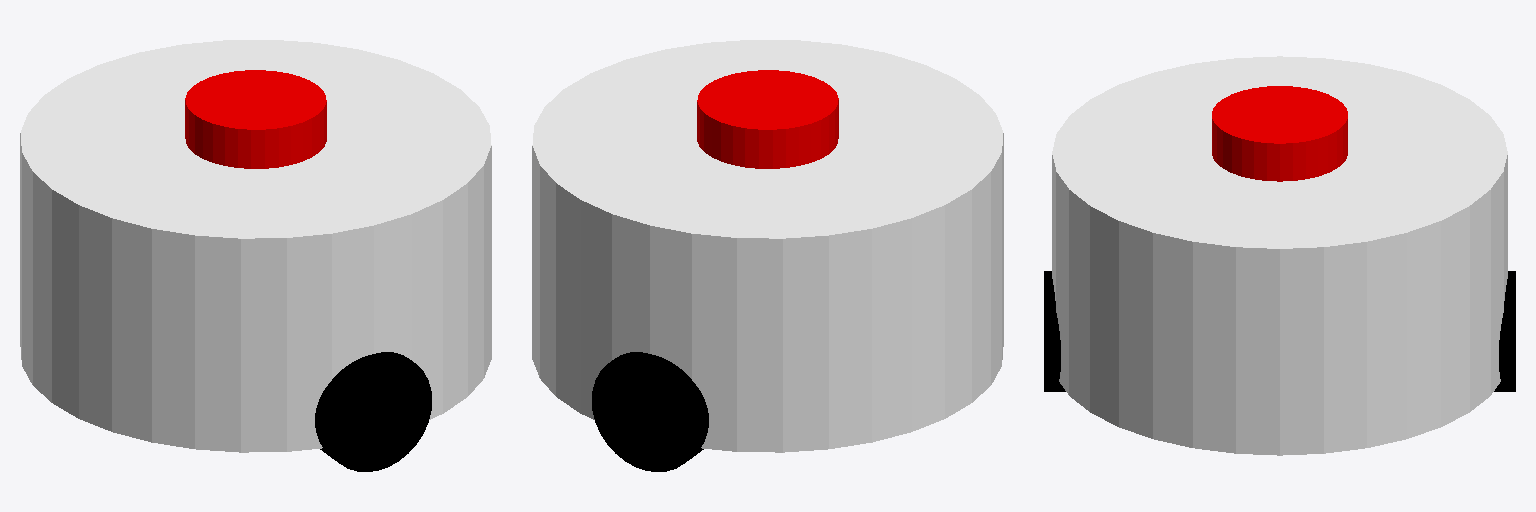
The robot description file, URDF, robot "swarm_bot":
<?xml version="1.0" ?>
<!-- =================================================================================== -->
<!-- |    This document was autogenerated by xacro from swarm_bot.xacro                | -->
<!-- |    EDITING THIS FILE BY HAND IS NOT RECOMMENDED                                 | -->
<!-- =================================================================================== -->
<robot name="swarm_bot">
  <material name="white">
    <color rgba="1 1 1 1"/>
  </material>
  <material name="black">
    <color rgba="0 0 0 1"/>
  </material>
  <material name="blue">
    <color rgba="0.2 0.2 1 1"/>
  </material>
  <material name="red">
    <color rgba="1 0 0 1"/>
  </material>
  <!-- BASE LINK -->
  <link name="base_link">

    </link>
  <joint name="chassis_joint" type="fixed">
    <parent link="base_link"/>
    <child link="chassis"/>
    <origin xyz="0 0 0"/>
  </joint>
  <link name="chassis">
    <visual>
      <geometry>
        <cylinder length="0.15" radius="0.15"/>
      </geometry>
      <material name="white"/>
    </visual>
    <collision>
      <geometry>
        <cylinder length="0.15" radius="0.15"/>
      </geometry>
    </collision>
    <inertial>
      <mass value="2.0"/>
      <inertia ixx="0.015" ixy="0.0" ixz="0.0" iyy="0.015" iyz="0.0" izz="0.0225"/>
    </inertial>
  </link>
  <link name="right_wheel">
    <visual>
      <geometry>
        <cylinder length="0.03" radius="0.04"/>
      </geometry>
      <material name="black"/>
    </visual>
    <collision>
      <geometry>
        <cylinder length="0.03" radius="0.04"/>
      </geometry>
    </collision>
    <inertial>
      <mass value="0.02"/>
      <inertia ixx="0.000032" ixy="0.0" ixz="0.0" iyy="0.000008" iyz="0.0" izz="0.000008"/>
    </inertial>
  </link>
  <gazebo reference="right_wheel">
    <material>Gazebo/Blue</material>
  </gazebo>
  <joint name="right_wheel_joint" type="continuous">
    <parent link="chassis"/>
    <child link="right_wheel"/>
    <origin xyz="0 -0.14 -0.055" rpy="1.57079632679 0 0"/>
    <axis xyz="0 0 -1"/>
  </joint>
  <link name="left_wheel">
    <visual>
      <geometry>
        <cylinder length="0.03" radius="0.04"/>
      </geometry>
      <material name="black"/>
    </visual>
    <collision>
      <geometry>
        <cylinder length="0.03" radius="0.04"/>
      </geometry>
    </collision>
    <inertial>
      <mass value="0.02"/>
      <inertia ixx="0.000032" ixy="0.0" ixz="0.0" iyy="0.000008" iyz="0.0" izz="0.000008"/>
    </inertial>
  </link>
  <gazebo reference="left_wheel">
    <material>Gazebo/Blue</material>
  </gazebo>
  <joint name="left_wheel_joint" type="continuous">
    <parent link="chassis"/>
    <child link="left_wheel"/>
    <origin xyz="0 0.14 -0.055" rpy="-1.57079632679 3.14159265358 0"/>
    <axis xyz="0 0 1"/>
  </joint>
  <joint name="front_caster_wheel_joint" type="fixed">
    <parent link="chassis"/>
    <child link="front_caster_wheel"/>
    <origin xyz="0.1 0 -0.0625555"/>
  </joint>
  <link name="front_caster_wheel">
    <visual>
      <geometry>
        <sphere radius="0.03"/>
      </geometry>
      <material name="blue"/>
    </visual>
    <collision>
      <geometry>
        <sphere radius="0.03"/>
      </geometry>
    </collision>
    <inertial>
      <mass value="0.1"/>
      <inertia ixx="0.000036" ixy="0.0" ixz="0.0" iyy="0.000036" iyz="0.0" izz="0.000036"/>
    </inertial>
  </link>
  <joint name="back_caster_wheel_joint" type="fixed">
    <parent link="chassis"/>
    <child link="back_caster_wheel"/>
    <origin xyz="-0.1 0 -0.063"/>
  </joint>
  <gazebo reference="front_caster_wheel">
    <material>Gazebo/Black</material>
    <mu1 value="0.001"/>
    <mu2 value="0.001"/>
  </gazebo>
  <link name="back_caster_wheel">
    <visual>
      <geometry>
        <sphere radius="0.03"/>
      </geometry>
      <material name="blue"/>
    </visual>
    <collision>
      <geometry>
        <sphere radius="0.03"/>
      </geometry>
    </collision>
    <inertial>
      <mass value="0.1"/>
      <inertia ixx="0.000036" ixy="0.0" ixz="0.0" iyy="0.000036" iyz="0.0" izz="0.000036"/>
    </inertial>
  </link>
  <gazebo reference="back_caster_wheel">
    <material>Gazebo/Black</material>
    <mu1 value="0.001"/>
    <mu2 value="0.001"/>
  </gazebo>
  <joint name="laser_joint" type="fixed">
    <parent link="chassis"/>
    <child link="laser_frame"/>
    <origin rpy="0 0 0" xyz="0 0 0.085"/>
  </joint>
  <link name="laser_frame">
    <visual>
      <geometry>
        <cylinder length="0.035" radius="0.045"/>
      </geometry>
      <material name="red"/>
    </visual>
  </link>
  <gazebo reference="laser_frame">
    <material>Gazebo/Red</material>
    <sensor name="laser" type="ray">
      <pose> 0 0 0 0 0 0 </pose>
      <visualize>true</visualize>
      <update_rate>10</update_rate>
      <ray>
        <scan>
          <horizontal>
            <samples>360</samples>
            <resolution>0.4</resolution>
            <min_angle>-3.14</min_angle>
            <max_angle>3.14</max_angle>
          </horizontal>
        </scan>
        <range>
          <min>0.15</min>
          <max>10</max>
          <resolution>0.01</resolution>
        </range>
      </ray>
        <plugin name="laser_controller" filename="libgazebo_ros_ray_sensor.so">
            <ros>
                <argument>~/out:=scan</argument>
            </ros>
        <output_type>sensor_msgs/LaserScan</output_type>
        <frame_name>laser_frame</frame_name>
      </plugin>
    </sensor>
  </gazebo>
  <gazebo>
    <plugin filename="libgazebo_ros_control.so" name="gazebo_ros_control">
      <robotParam>/robot_description</robotParam>
      <robotSimType>gazebo_ros_control/DefaultRobotHWSim</robotSimType>
    </plugin>
  </gazebo>
  <gazebo>
    <plugin filename="libgazebo_ros_diff_drive.so" name="differential_drive_controller">
      <!-- Wheel Information -->
      <left_joint>left_wheel_joint</left_joint>
      <right_joint>right_wheel_joint</right_joint>
      <wheel_separation>0.28</wheel_separation>
      <wheel_diameter>0.08</wheel_diameter>
      <!-- Limits -->
      <max_wheel_torque>7</max_wheel_torque>
      <max_wheel_acceleration>1.0</max_wheel_acceleration>
      <!-- Output -->
      <odometry_frame>odom</odometry_frame>
      <robot_base_frame>base_link</robot_base_frame>
      <publish_odom>true</publish_odom>
      <publish_odom_tf>true</publish_odom_tf>
      <publish_wheel_tf>true</publish_wheel_tf>
    </plugin>
  </gazebo>
</robot>

--- Facts derived from the render (not from the file) ---
The picture shows the robot from 3 angles, left to right: view 1: azimuth 30°, elevation 25°; view 2: azimuth 150°, elevation 25°; view 3: azimuth 270°, elevation 25°; orthographic projection.
Model swarm_bot with 7 links and 6 joints (2 continuous, 4 fixed), rooted at base_link, posed all joints at 0.
Visible links, largest first — view 1: chassis, laser_frame, right_wheel; view 2: chassis, laser_frame, left_wheel; view 3: chassis, laser_frame, right_wheel, left_wheel.
Link boxes in pixels (box(x1,y1,x2,y2)): chassis: box(20, 40, 491, 452); laser_frame: box(185, 70, 326, 168); right_wheel: box(315, 352, 431, 471); chassis: box(532, 40, 1003, 452); laser_frame: box(697, 70, 838, 168); left_wheel: box(592, 352, 708, 471); chassis: box(1052, 56, 1507, 455); laser_frame: box(1212, 86, 1347, 181); right_wheel: box(1044, 271, 1065, 391); left_wheel: box(1494, 271, 1515, 391).
Bounding box of the posed robot: 0.3 × 0.31 × 0.1975 m (x, y, z).
Geometry: primitives only (box / cylinder / sphere), no mesh files.
